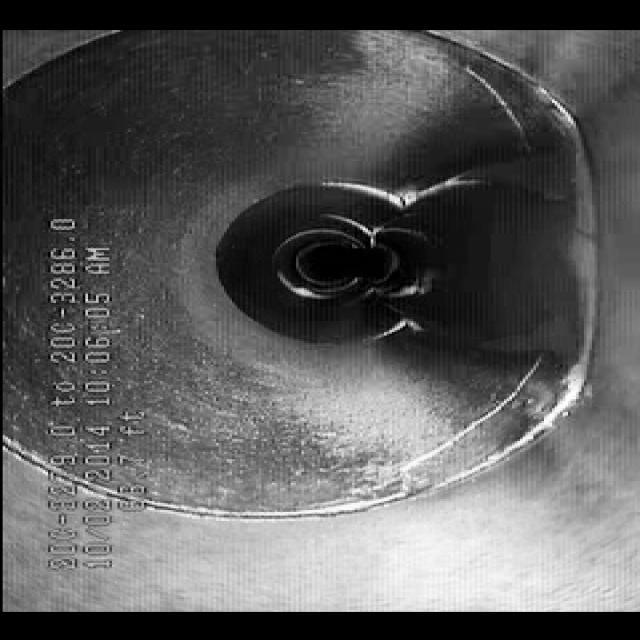Crack: (365, 370, 545, 477)
